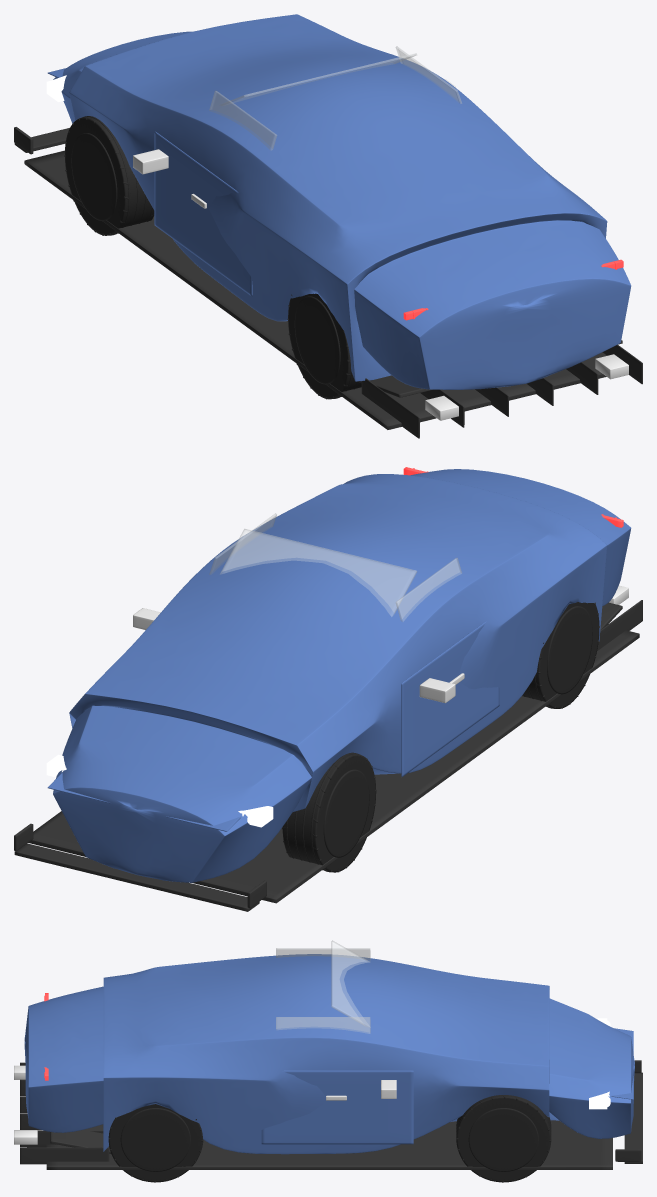
Rendered from vehicle.opt.glb.
The picture shows the model from 3 angles, top to bottom: view 1: azimuth 30°, elevation 25°; view 2: azimuth 150°, elevation 25°; view 3: azimuth 270°, elevation 25°; orthographic projection. The views are drawn at different scales.
Parts seen in each view (by area): view 1: BODY_MainShell, UNDERBODY_FlatFloor, BODY_Door_FL, WHEEL_FL_Tire, WHEEL_RL_Tire, GLASS_Greenhouse, JEWELRY_RS4_OvalExhaust, AERO_FrontSplitter, JEWELRY_Hardware; view 2: BODY_MainShell, UNDERBODY_FlatFloor, WHEEL_FL_Tire, GLASS_Greenhouse, BODY_Door_FL, WHEEL_RL_Tire, AERO_FrontSplitter, JEWELRY_Hardware, LIGHTING_Headlamps, BODY_Hood; view 3: BODY_MainShell, UNDERBODY_FlatFloor, BODY_Door_FR, WHEEL_FR_Tire, WHEEL_RR_Tire, GLASS_Greenhouse, AERO_FrontSplitter, JEWELRY_RS4_OvalExhaust, JEWELRY_Hardware, LIGHTING_Headlamps.
Boxes of the visible parts, x1=… form: BODY_MainShell: x1=53, y1=14, x2=631, y2=389; UNDERBODY_FlatFloor: x1=24, y1=150, x2=642, y2=438; BODY_Door_FL: x1=154, y1=131, x2=252, y2=296; WHEEL_FL_Tire: x1=64, y1=116, x2=154, y2=235; WHEEL_RL_Tire: x1=287, y1=293, x2=361, y2=399; GLASS_Greenhouse: x1=209, y1=46, x2=461, y2=150; JEWELRY_RS4_OvalExhaust: x1=425, y1=354, x2=628, y2=420; AERO_FrontSplitter: x1=14, y1=127, x2=69, y2=154; JEWELRY_Hardware: x1=133, y1=79, x2=455, y2=208; BODY_MainShell: x1=53, y1=469, x2=631, y2=882; UNDERBODY_FlatFloor: x1=28, y1=600, x2=642, y2=903; WHEEL_FL_Tire: x1=282, y1=752, x2=376, y2=872; GLASS_Greenhouse: x1=209, y1=513, x2=461, y2=621; BODY_Door_FL: x1=401, y1=621, x2=499, y2=776; WHEEL_RL_Tire: x1=522, y1=602, x2=599, y2=708; AERO_FrontSplitter: x1=14, y1=823, x2=266, y2=911; JEWELRY_Hardware: x1=133, y1=608, x2=464, y2=703; LIGHTING_Headlamps: x1=46, y1=754, x2=273, y2=827; BODY_Hood: x1=47, y1=773, x2=241, y2=831; BODY_MainShell: x1=24, y1=954, x2=634, y2=1154; UNDERBODY_FlatFloor: x1=20, y1=1062, x2=612, y2=1169; BODY_Door_FR: x1=261, y1=1070, x2=413, y2=1144; WHEEL_FR_Tire: x1=456, y1=1095, x2=551, y2=1182; WHEEL_RR_Tire: x1=108, y1=1104, x2=203, y2=1182; GLASS_Greenhouse: x1=276, y1=940, x2=370, y2=1033; AERO_FrontSplitter: x1=615, y1=1060, x2=642, y2=1163; JEWELRY_RS4_OvalExhaust: x1=14, y1=1065, x2=37, y2=1144; JEWELRY_Hardware: x1=326, y1=1080, x2=396, y2=1100; LIGHTING_Headlamps: x1=589, y1=1018, x2=610, y2=1109.
Size of what is drawn, in the model's own units: 2.15 by 1.36 by 4.79.
